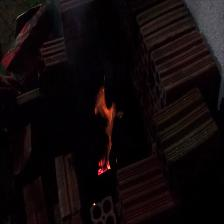fire: (94, 85, 114, 171)
